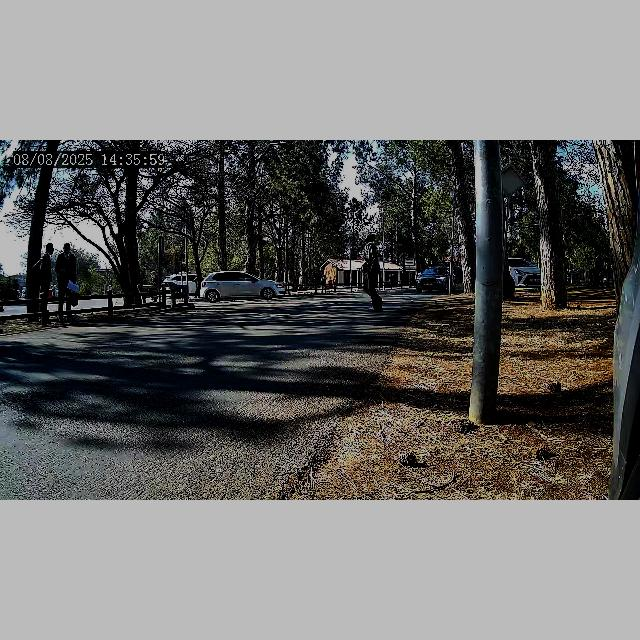car: (198, 271, 282, 303), (416, 264, 464, 294), (161, 274, 203, 296)
